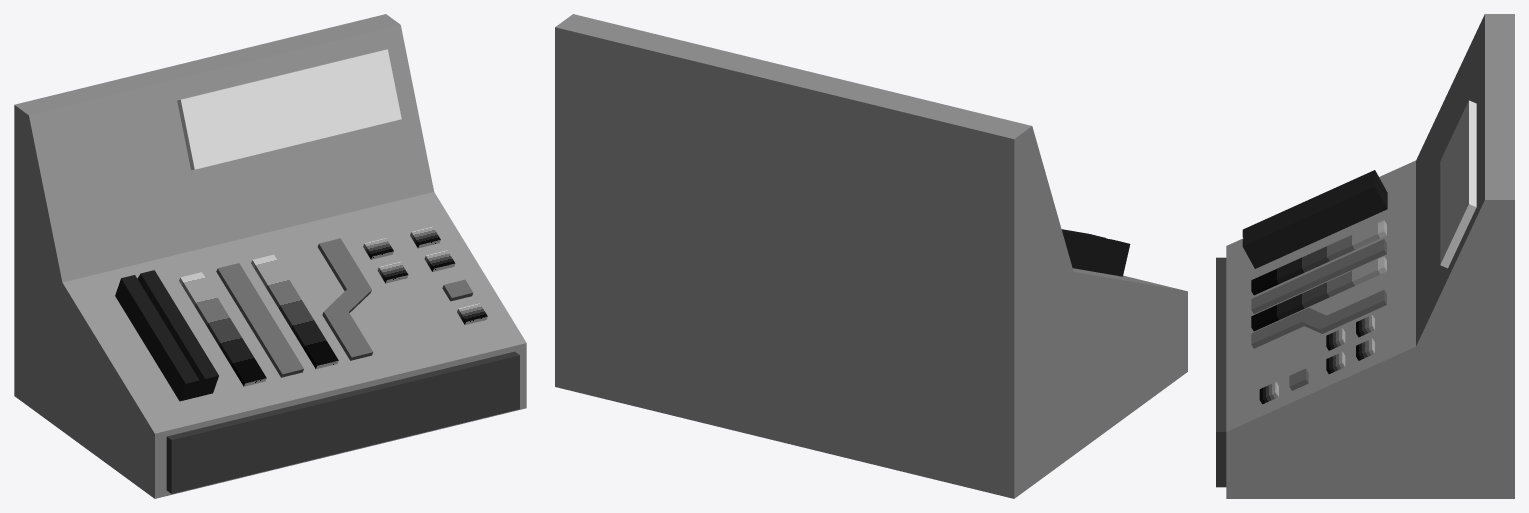
The model's file is cashier_A.FBX.
3 views of the same model, side by side, from view 1: azimuth 30°, elevation 25°; view 2: azimuth 150°, elevation 25°; view 3: azimuth 270°, elevation 25° (orthographic). The views are drawn at different scales.
Visible parts, largest first — view 1: cashier_A, cashier_A_glow; view 2: cashier_A; view 3: cashier_A, cashier_A_glow.
Part boxes in pixels (x1,y1,x2,y2): cashier_A: [14, 14, 526, 498]; cashier_A_glow: [177, 49, 487, 386]; cashier_A: [555, 14, 1187, 498]; cashier_A: [1216, 14, 1514, 498]; cashier_A_glow: [1251, 100, 1476, 404].
Bounding box in the file's own units: 29.59 × 22.15 × 20.08.
